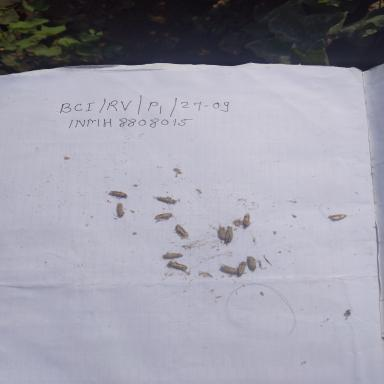pbw: (152, 194, 181, 210), (238, 210, 258, 230), (172, 221, 193, 240), (158, 249, 188, 262), (243, 250, 260, 272), (236, 255, 249, 281), (222, 220, 238, 241), (153, 210, 178, 223), (214, 262, 239, 274), (110, 201, 127, 218), (215, 223, 228, 245), (166, 260, 188, 272), (106, 189, 130, 199), (328, 213, 353, 220)
